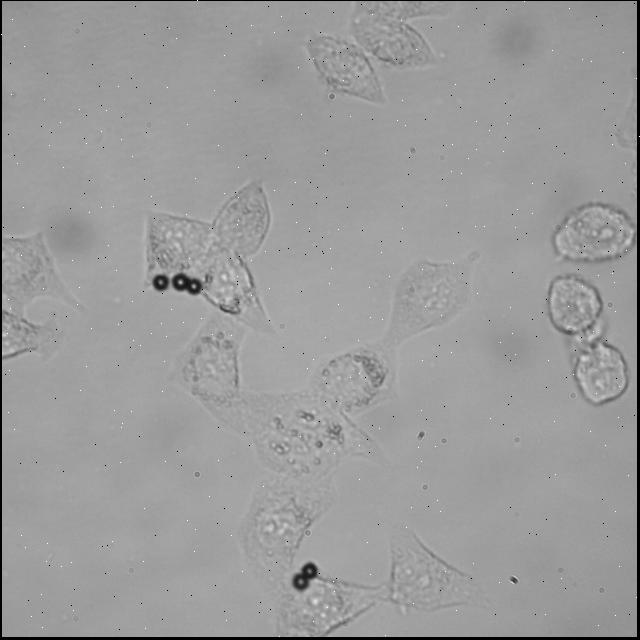microbeads: (152, 272, 170, 290), (188, 280, 206, 296), (301, 561, 319, 577), (174, 274, 190, 288), (295, 574, 311, 588)
